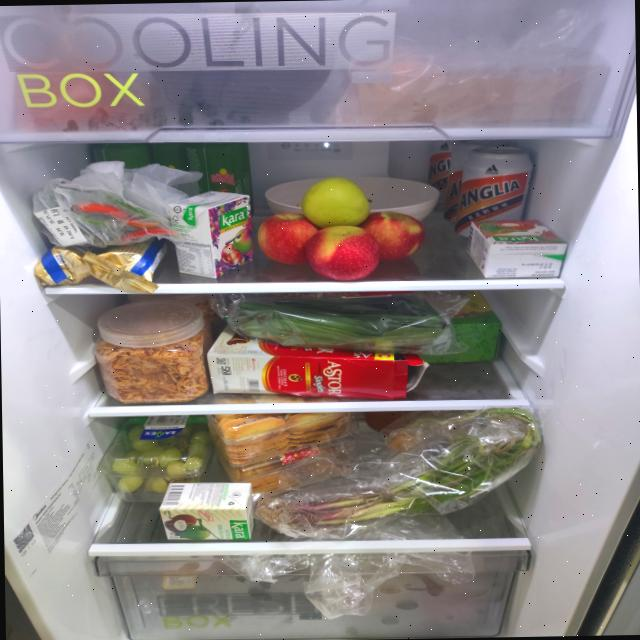apple: (256, 175, 426, 282)
chili: (76, 193, 175, 246)
coconut_milk: (168, 190, 255, 280), (465, 218, 568, 279), (159, 481, 255, 542)
grape: (98, 414, 216, 503)
leafy_greens: (232, 294, 446, 356)
spring_onion: (254, 406, 544, 526)
